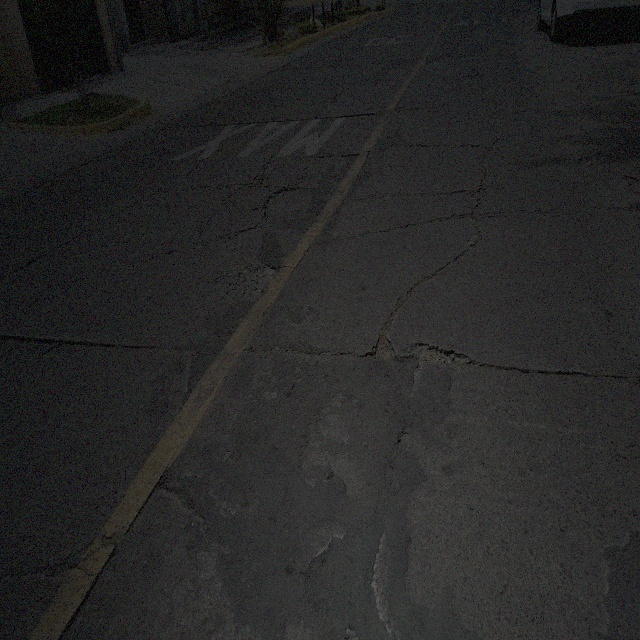pothole: (209, 259, 280, 306), (404, 339, 473, 374), (468, 183, 487, 238), (375, 322, 398, 364)
